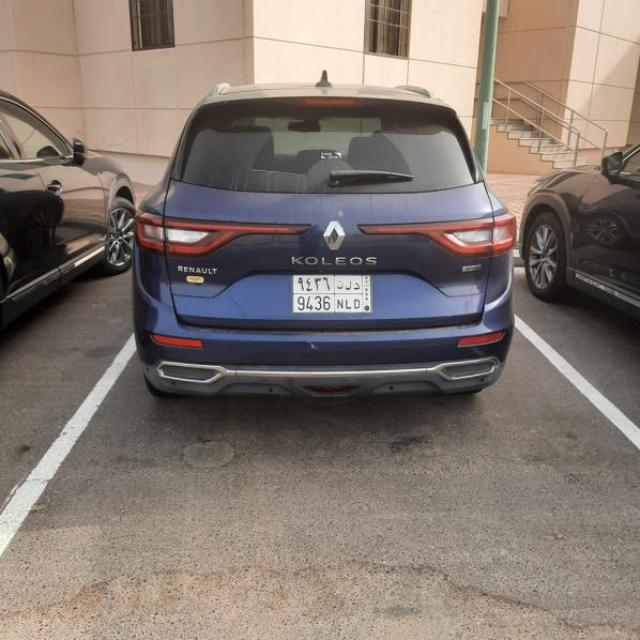license_plate: (293, 273, 372, 312)
